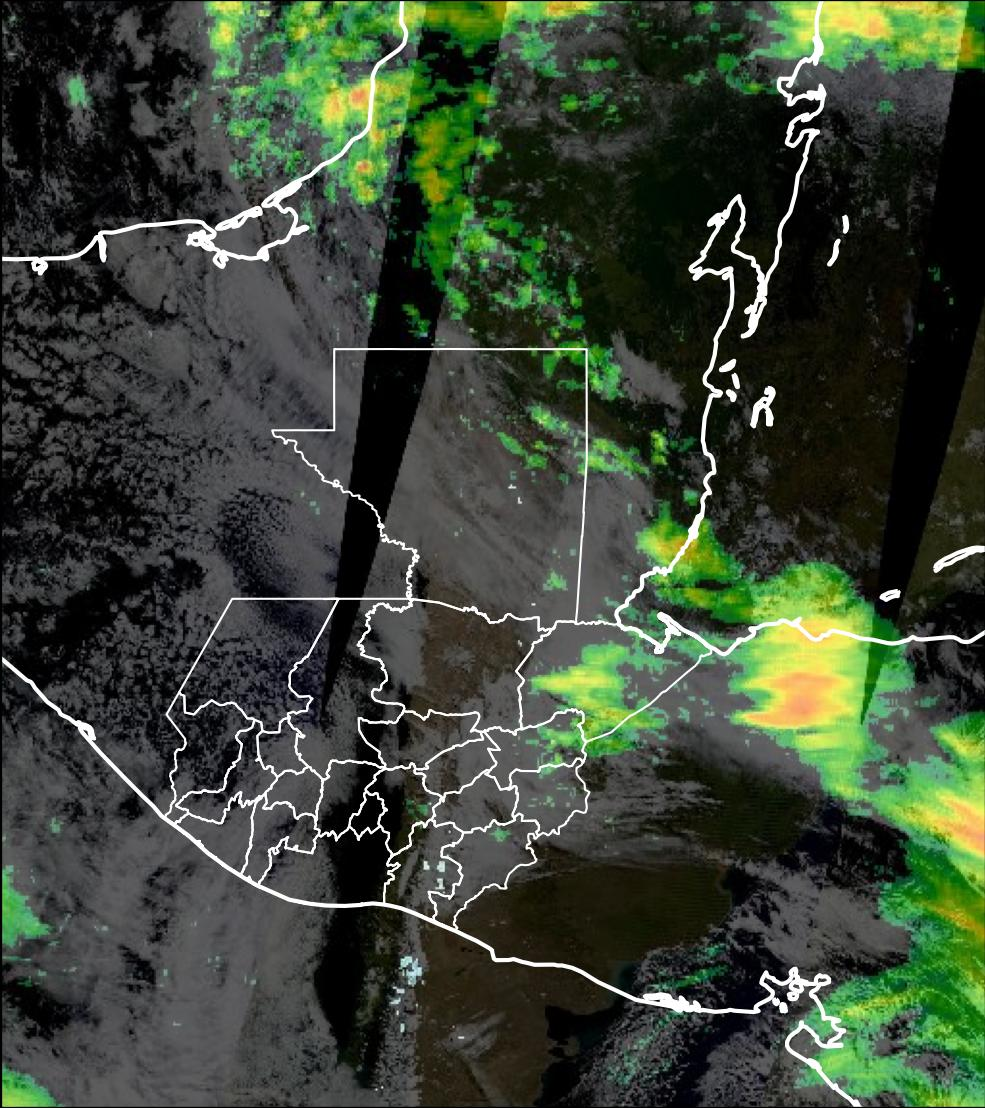precipitacion: (743, 670, 864, 736)
